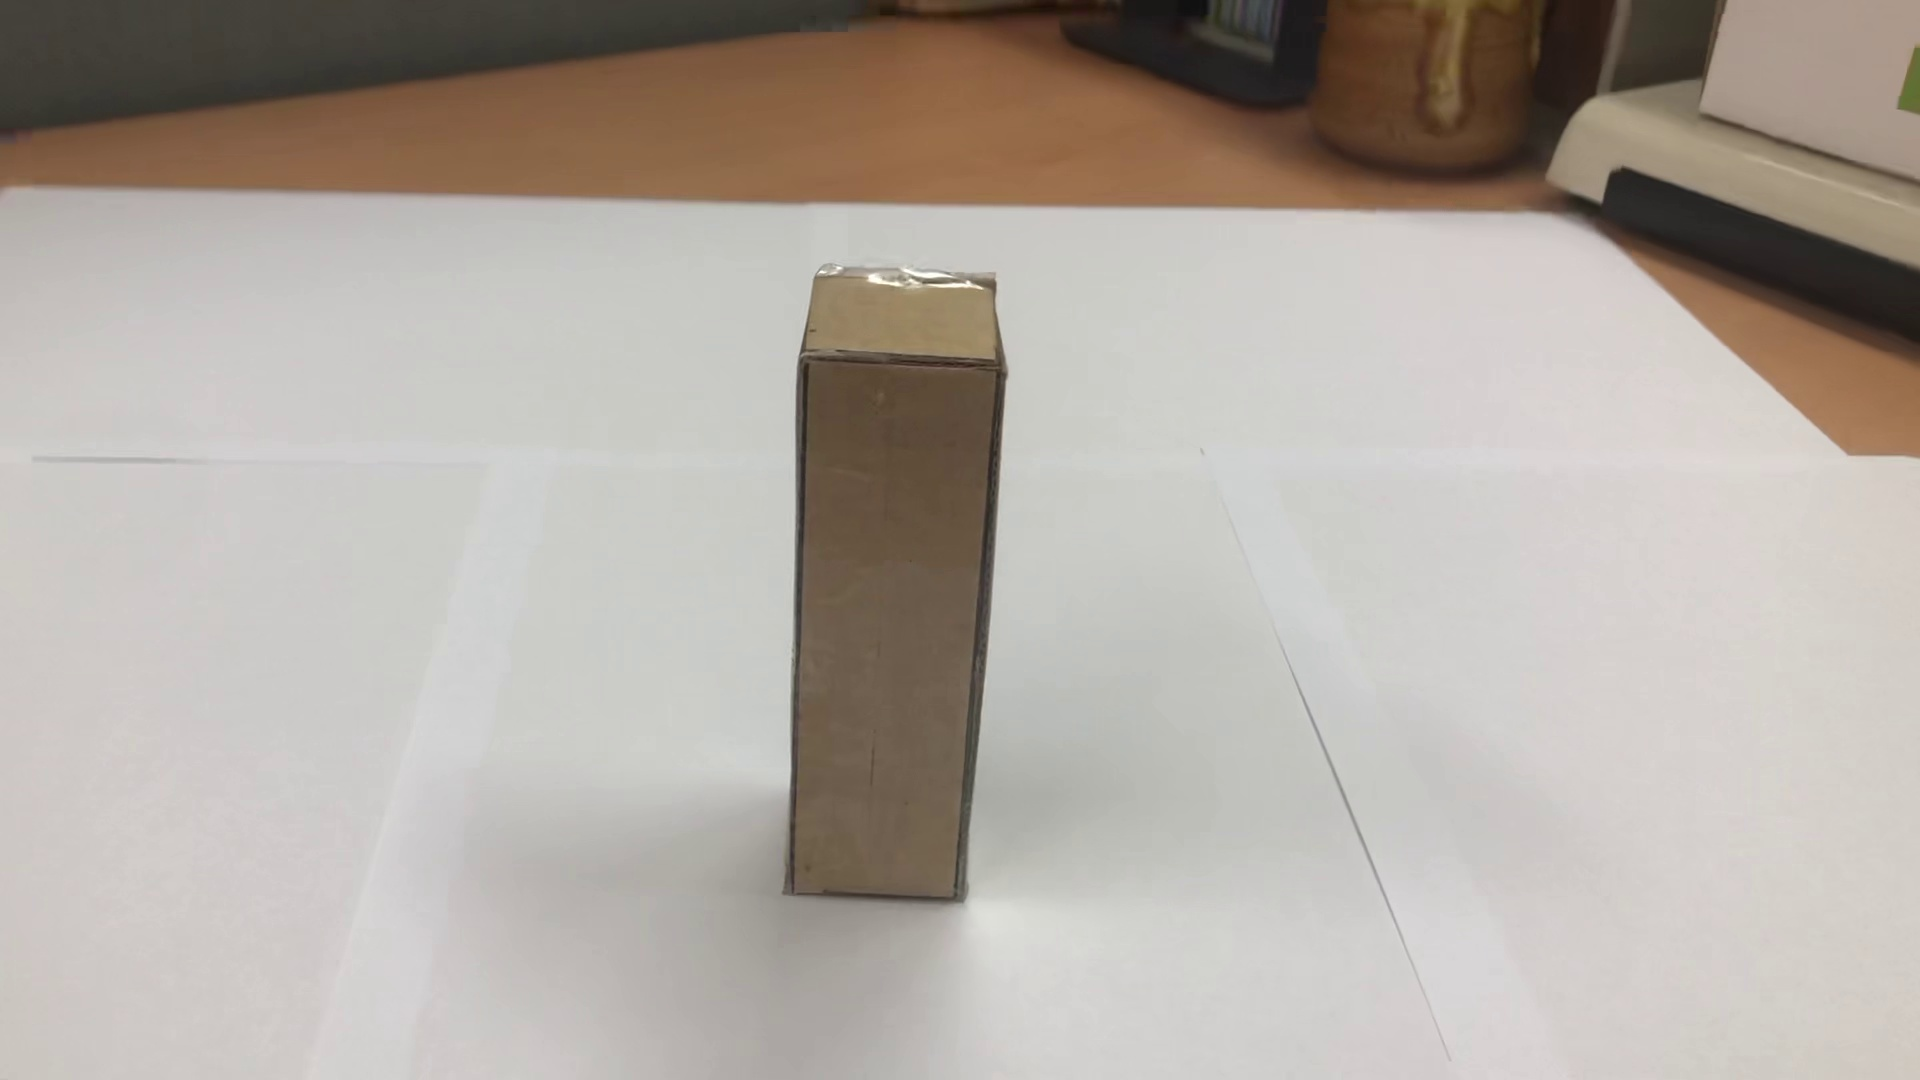box: (735, 231, 1030, 952)
